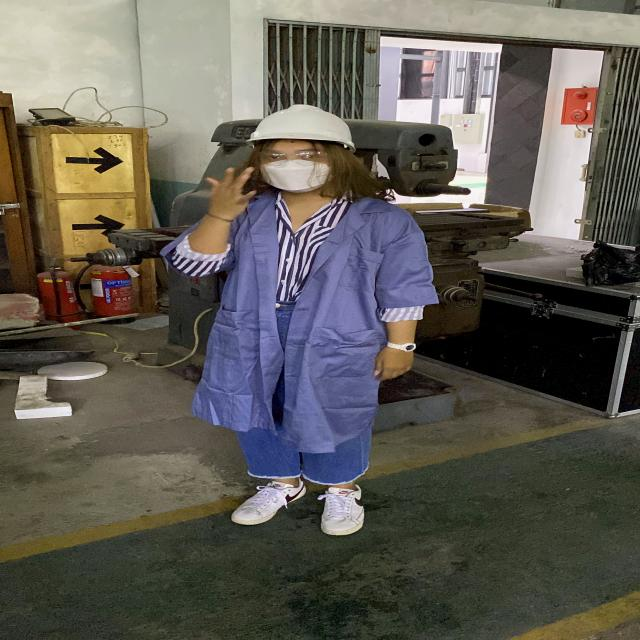face_mask: (250, 145, 345, 195)
glasses: (253, 148, 334, 167)
hand_noglove: (201, 165, 264, 218), (369, 346, 420, 383)
head_helmet: (243, 102, 355, 148)
person: (155, 101, 444, 547)
shoes: (214, 473, 311, 527), (316, 480, 369, 540)
